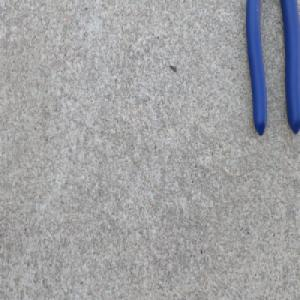Pliers: (245, 0, 300, 136)
